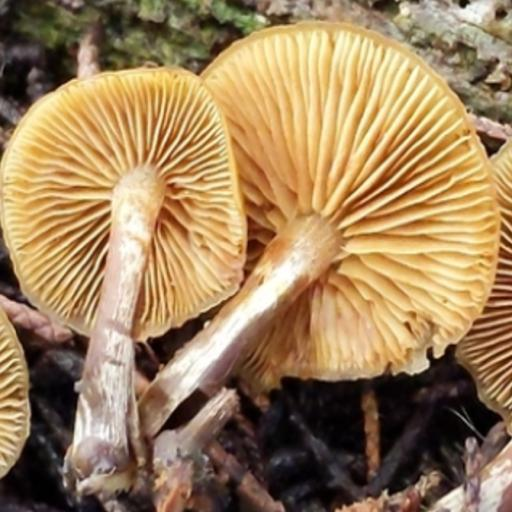mushroom: (9, 18, 505, 411)
